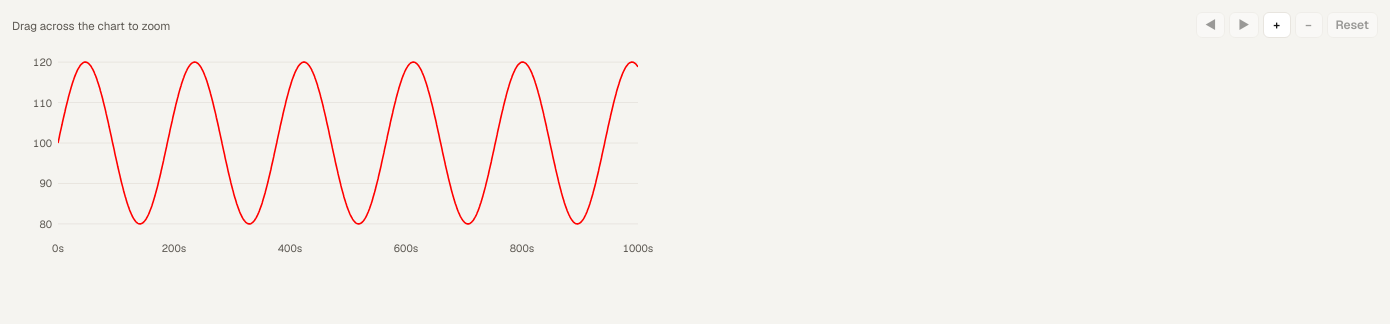
Test: LineChart zoom and pan › zooms to a dragged segment and resets with the 0 key
Press the mouse on the picture named "HR" at (332, 152), box 12,42 -> 652,262
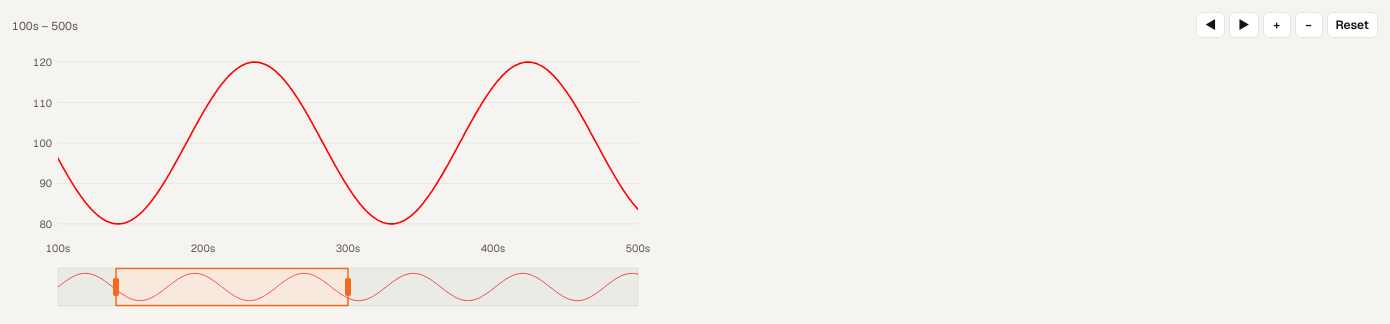
Check: the text "100s – 500s" is shown, box 12,14 -> 78,36
Press 0 in the picture named "HR", box 12,42 -> 652,262
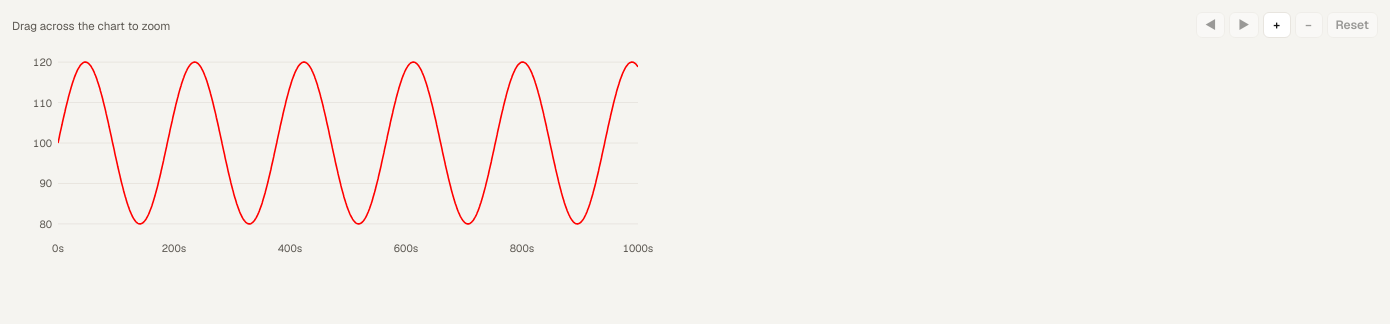
Check: the text "Drag across the chart to zoom" is shown, box 12,14 -> 170,36
